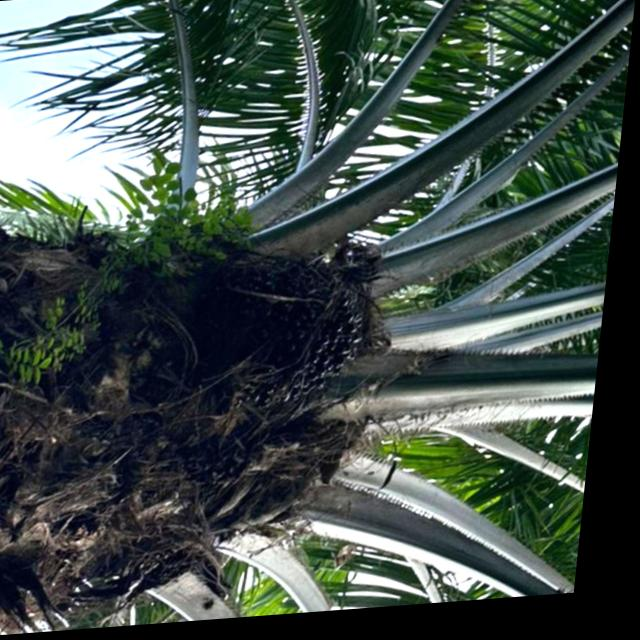almost: (202, 248, 394, 423)
